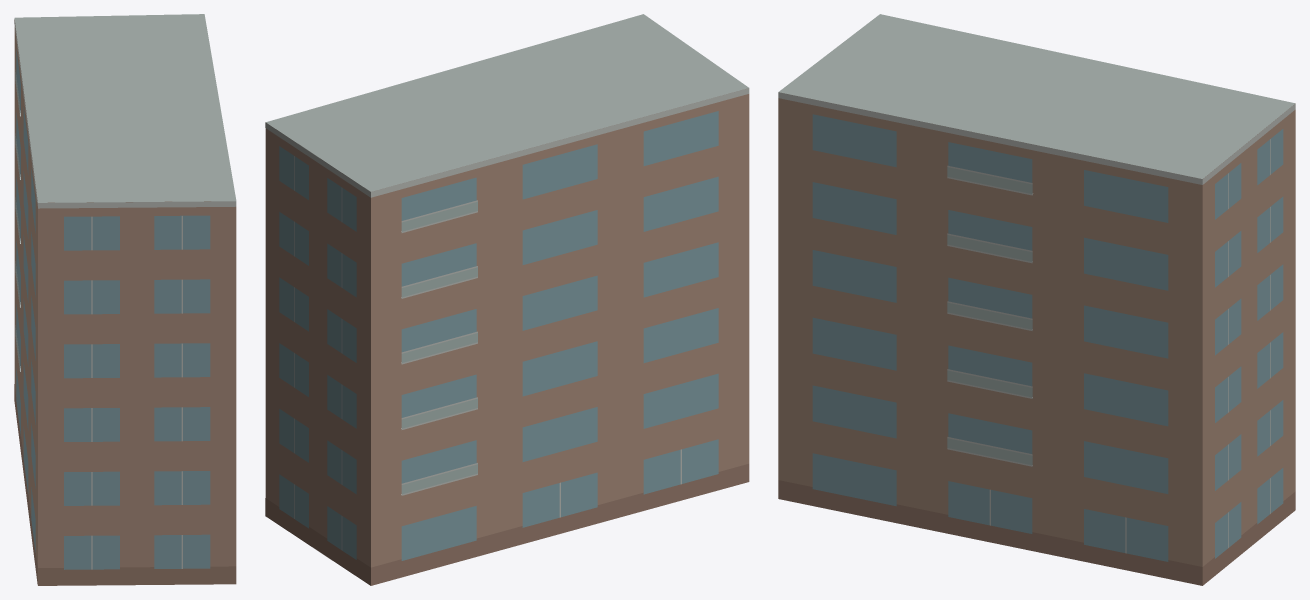
The model's file is survey-upis-33023294.glb.
3 views of the same model, side by side, from view 1: azimuth 30°, elevation 25°; view 2: azimuth 150°, elevation 25°; view 3: azimuth 270°, elevation 25° (orthographic). The views are drawn at different scales.
Parts seen in each view (by area): view 1: survey-upis-33023294.tmp; view 2: survey-upis-33023294.tmp; view 3: survey-upis-33023294.tmp.
Part boxes in pixels (x1,y1,x2,y2): survey-upis-33023294.tmp: [14, 14, 236, 585]; survey-upis-33023294.tmp: [265, 14, 749, 585]; survey-upis-33023294.tmp: [778, 14, 1295, 585].
Bounding box in the file's own units: 14.46 × 16.6 × 19.14.
